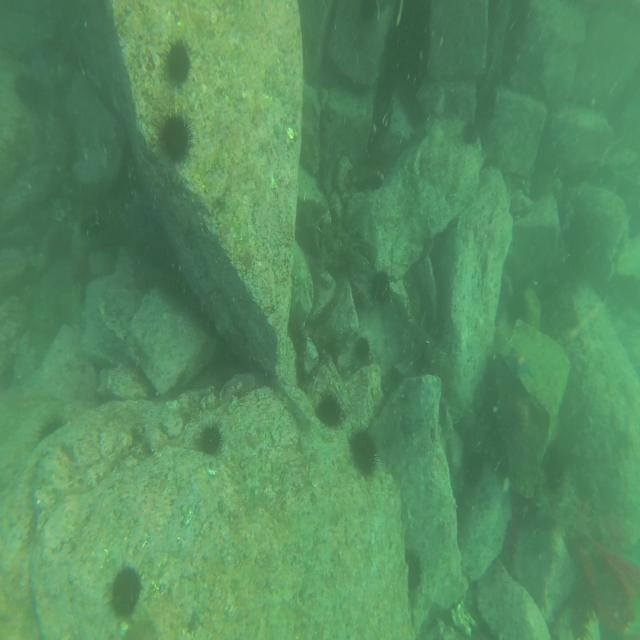echinus: (106, 566, 146, 620), (159, 113, 193, 166), (351, 425, 380, 478), (168, 33, 195, 86), (318, 389, 348, 435), (12, 68, 46, 107), (34, 413, 64, 447), (195, 423, 224, 458), (370, 269, 394, 305), (401, 548, 422, 585), (459, 118, 480, 147), (356, 336, 374, 367)
